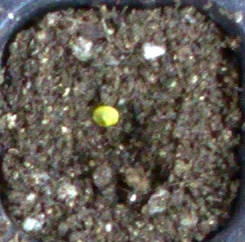pepper seed: (31, 41, 152, 170)
